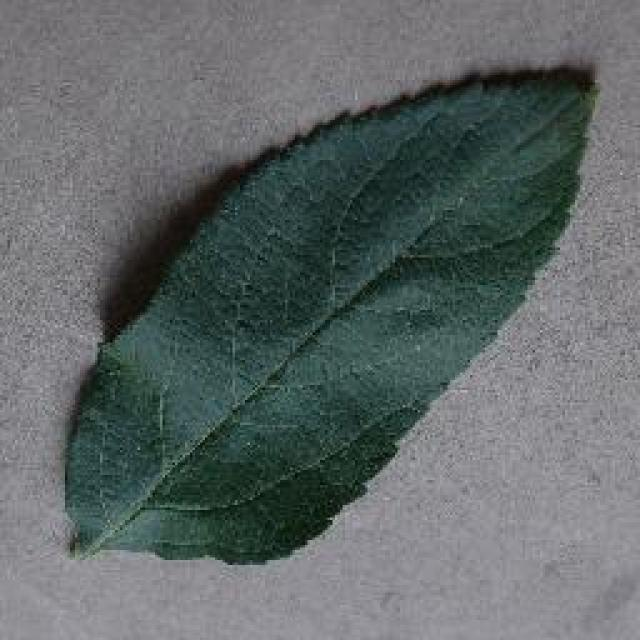apple healthy: (58, 57, 600, 565)
